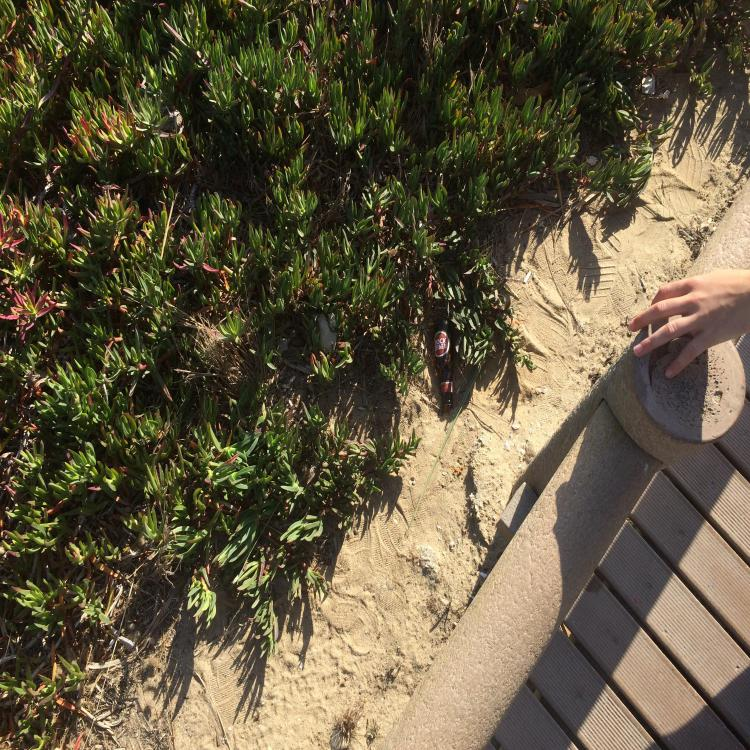Cigarette: (522, 271, 532, 283), (532, 272, 536, 279)
Glass bottle: (434, 320, 455, 408)
Unlabeled litter: (643, 78, 655, 96)
